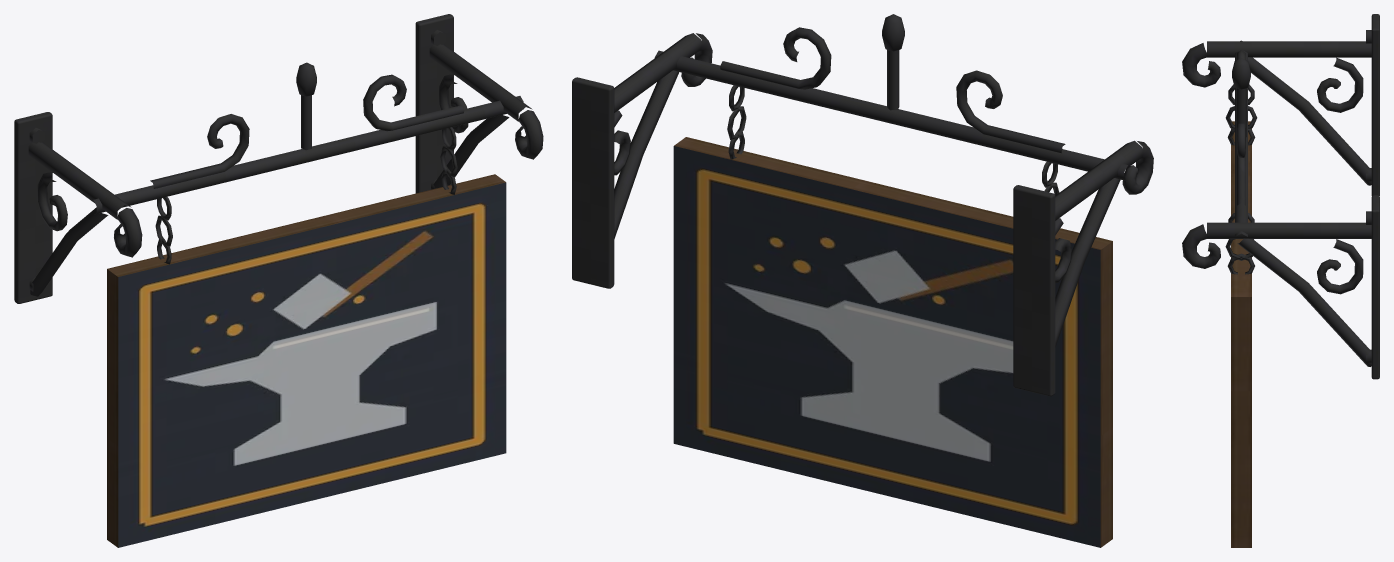
File: sign_smithy.glb
3 renders of one model, left to right at view 1: azimuth 30°, elevation 25°; view 2: azimuth 150°, elevation 25°; view 3: azimuth 270°, elevation 25°, orthographic. The views are drawn at different scales.
Parts seen in each view (by area): view 1: prop; view 2: prop; view 3: prop.
Boxes of the visible parts, bbox=[...] form: prop: bbox=[14, 14, 543, 547]; prop: bbox=[572, 14, 1153, 547]; prop: bbox=[1182, 14, 1379, 547].
Size of what is drawn, in the model's own units: 0.675 by 0.641 by 0.2858.
3 materials, 3 textured.
